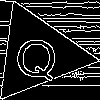Q: (12, 28, 61, 82)
